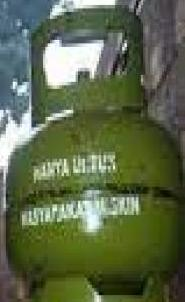cylinder: (1, 1, 185, 302)
